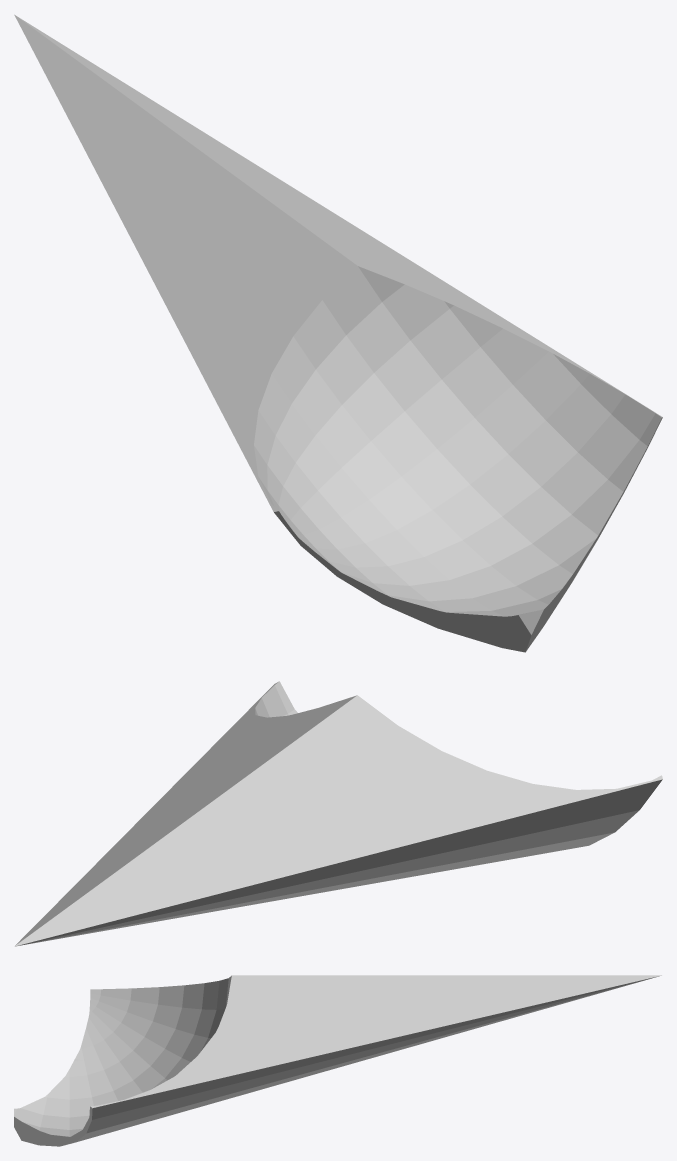
File: BossConeLower.obj
3 renders of one model, top to bottom at view 1: azimuth 30°, elevation 25°; view 2: azimuth 150°, elevation 25°; view 3: azimuth 270°, elevation 25°, orthographic. The views are drawn at different scales.
Visible parts, largest first — view 1: 圓錐體.003; view 2: 圓錐體.003; view 3: 圓錐體.003.
Boxes of the visible parts, <box> form: 圓錐體.003: <box>14,14,662,652</box>; 圓錐體.003: <box>14,681,662,946</box>; 圓錐體.003: <box>14,975,661,1146</box>.
Bounding box in the file's own units: 3.04 × 1.97 × 7.
1 material, 1 textured.
